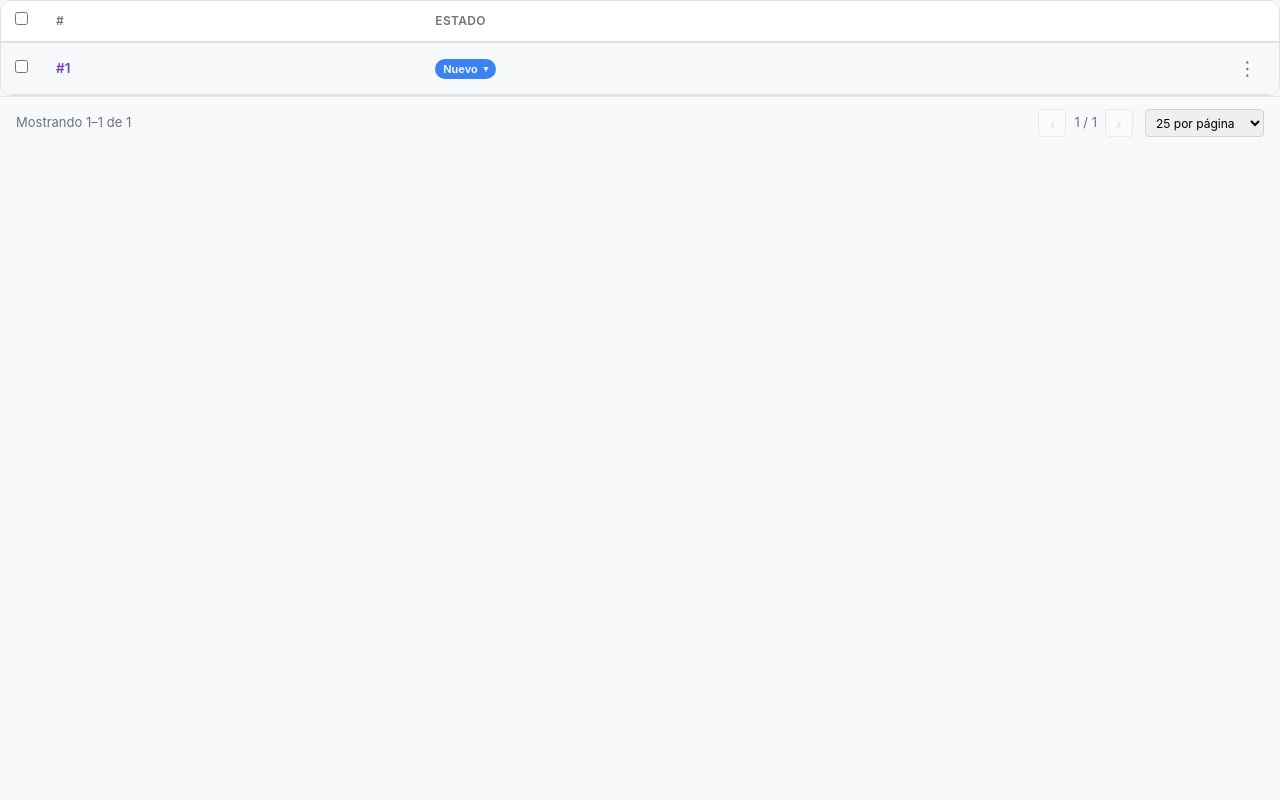
Test case: TasksTableView — IClass send feedback › opens the modal with the missing fields on 422 MISSING_REQUIRED_FIELDS
The image size is (1280, 800).
What coordinates should you click on to do the following:
click the button with aria-label "Cambiar estado"
I would click on:
 (466, 69)
Its box is [435,59,496,79].
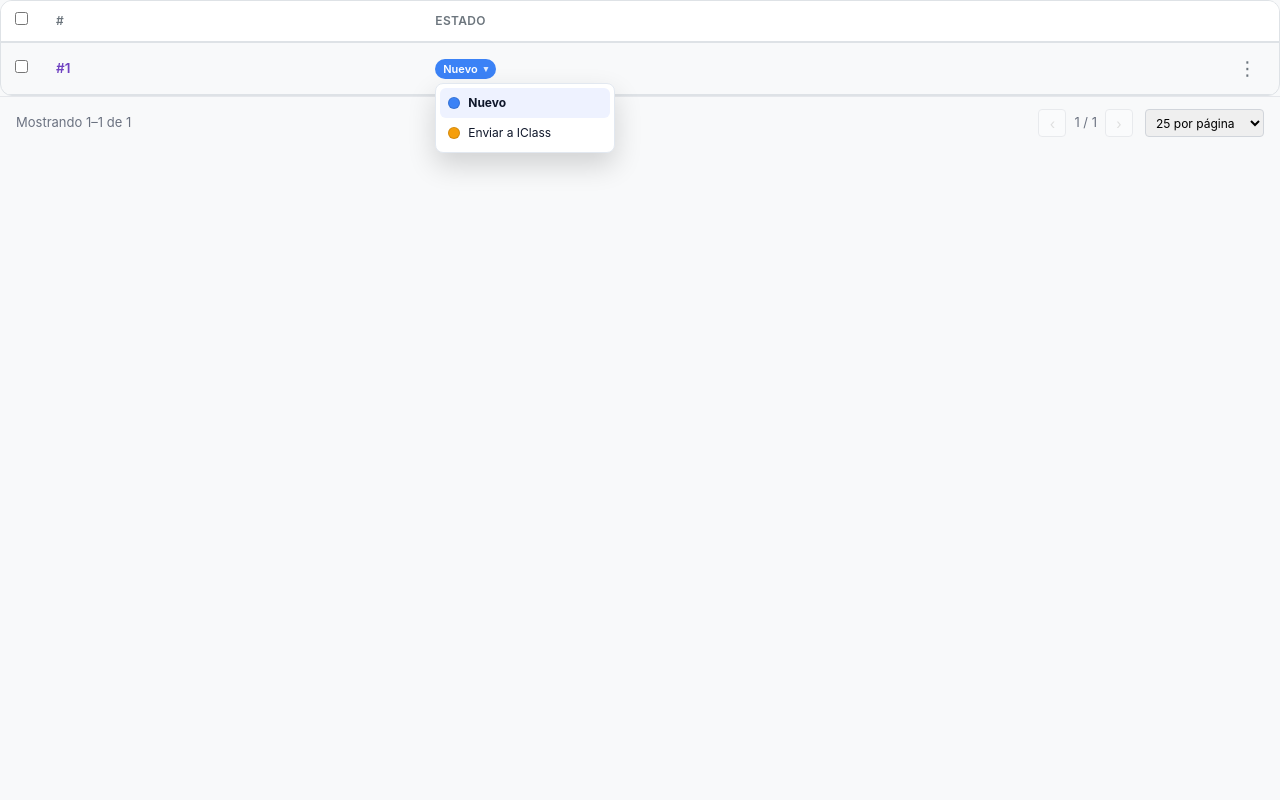
What coordinates should you click on to do the following:
click the option "Enviar a IClass"
I would click on:
 (525, 133)
Its box is [440,118,610,148].
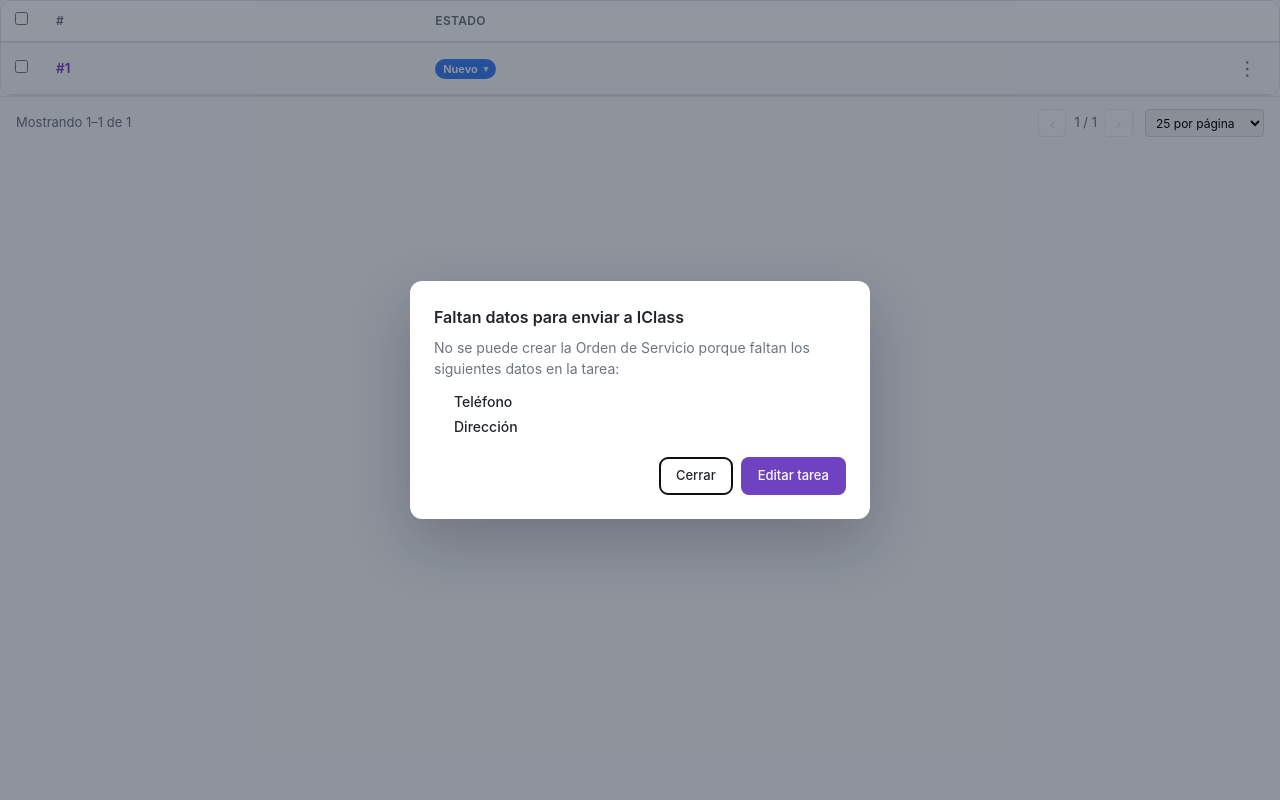
Check: the heading "Faltan datos para enviar a IClass" is shown, box [434,307,684,327]
Check: the list item "Teléfono" is shown, box [454,393,512,410]
Check: the list item "Dirección" is shown, box [454,418,518,435]
